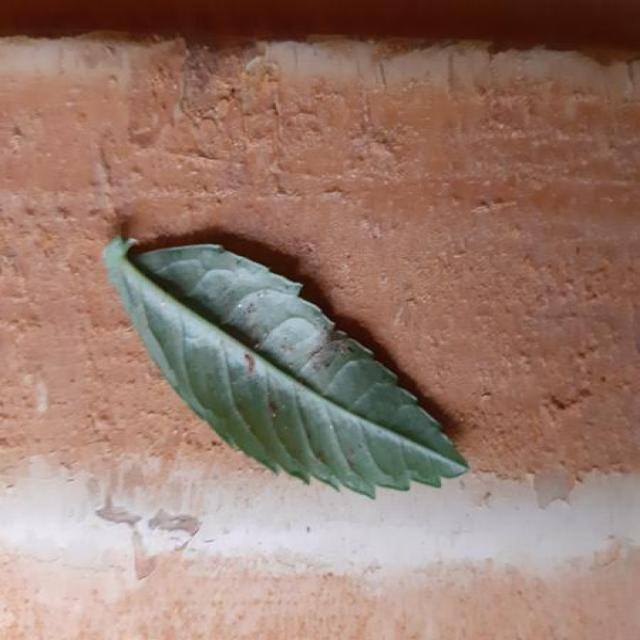marigold: (103, 238, 467, 497), (103, 239, 468, 497)
